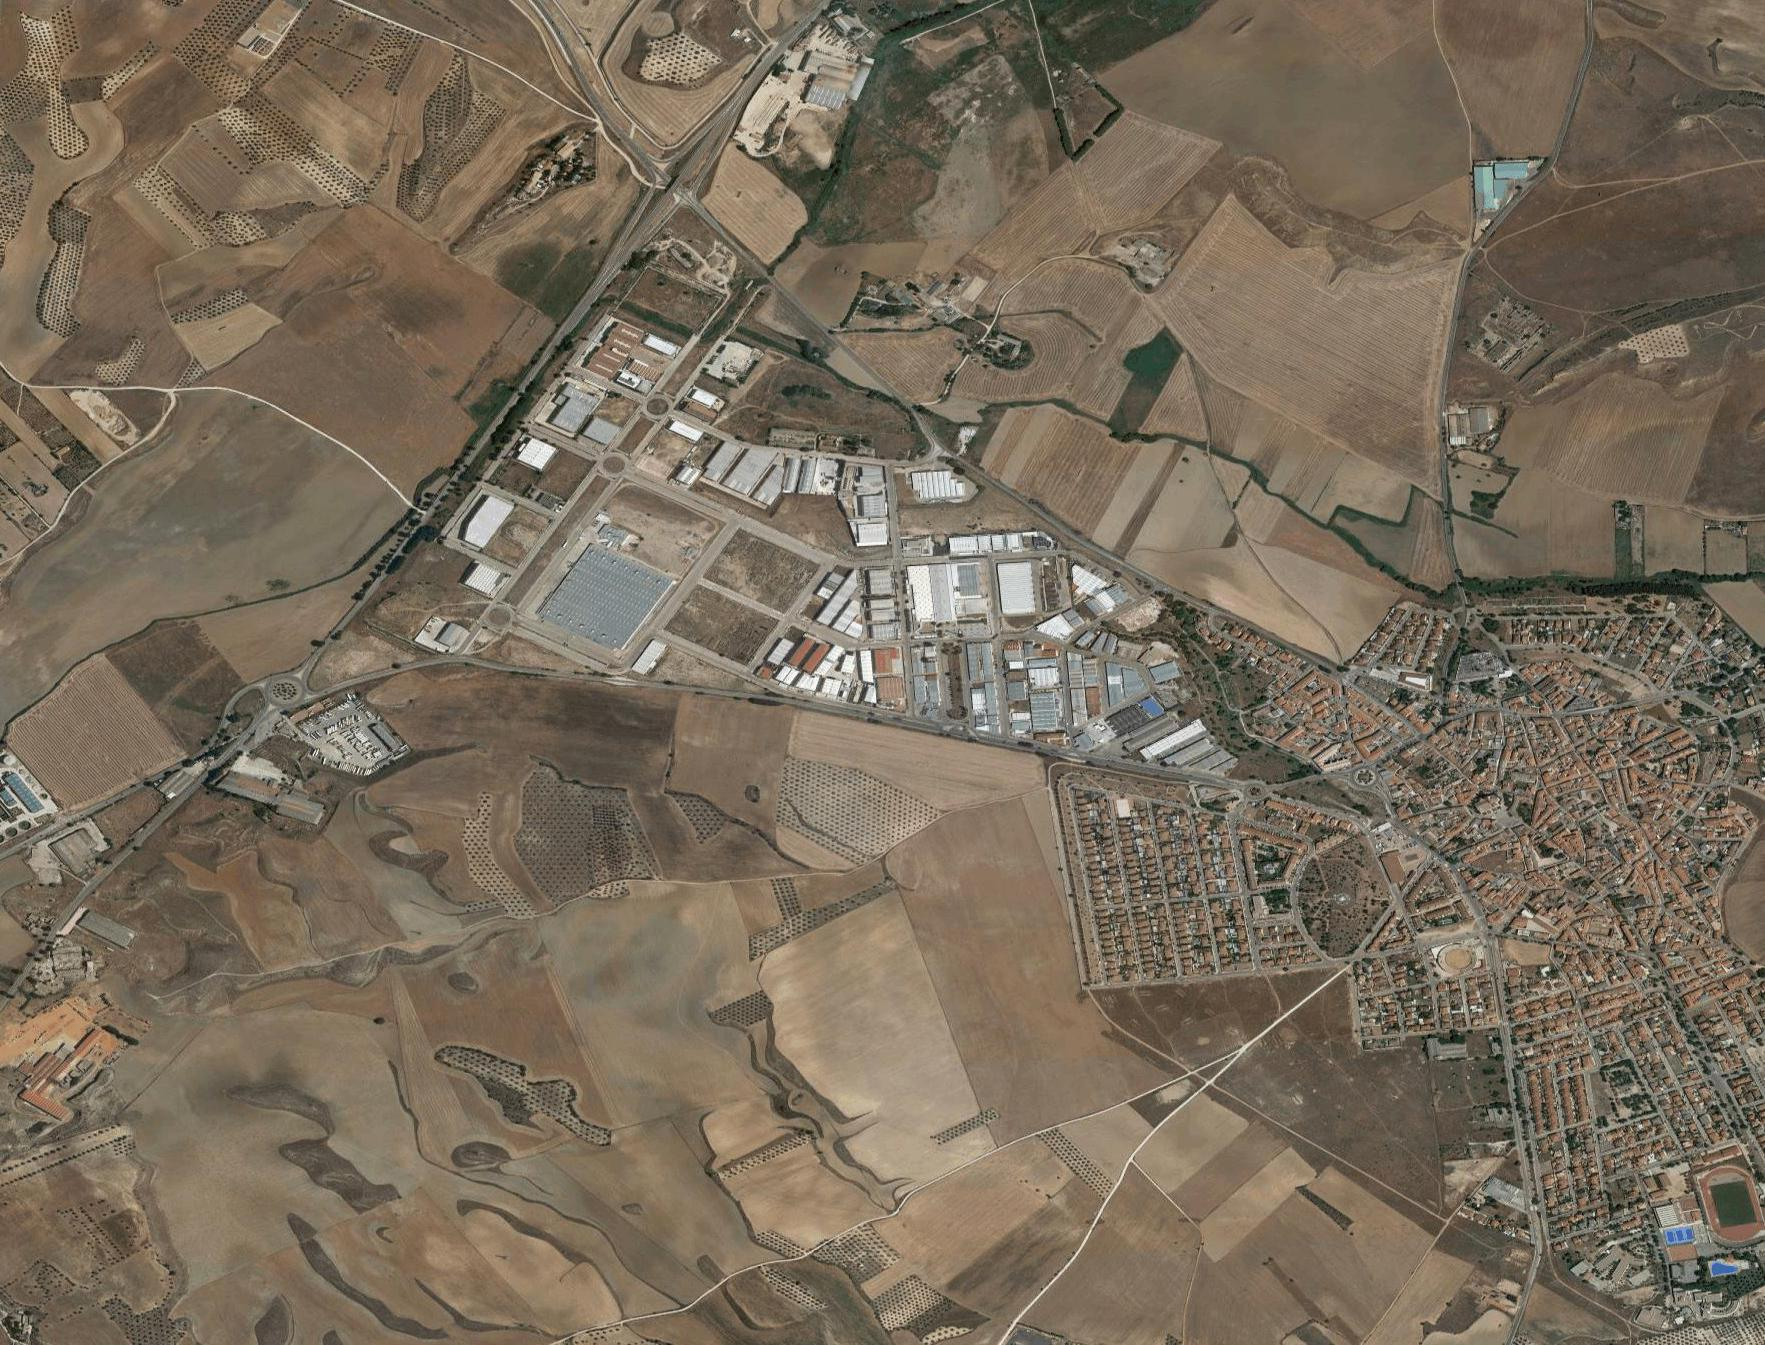industrial: (500, 340, 1236, 776)
